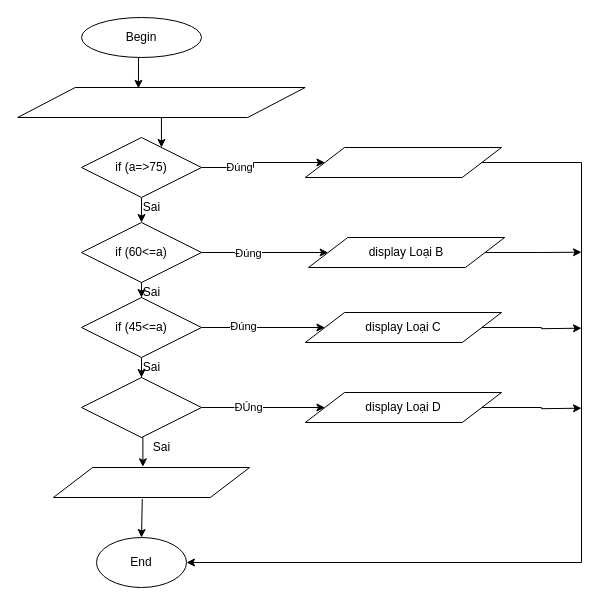
This 607x605 diagram has some shape labels left out. Here are the shapes that lost their labels. From the top down, the centre of each, then its label:
At (161,102): "input a (điểm của sinh viên a<=100)".
At (403,162): "display Loại A".
At (141,407): "if (35<=a)".
At (151,482): "display Loại E".
